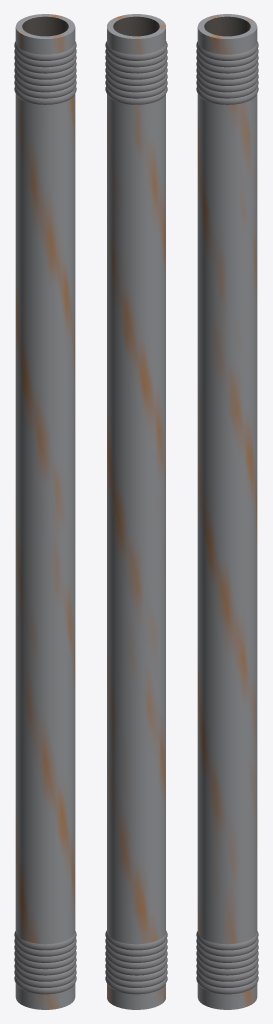
File: iron_pipe.glb
The picture shows the model from 3 angles, left to right: view 1: azimuth 90°, elevation 25°; view 2: azimuth 150°, elevation 25°; view 3: azimuth 270°, elevation 25°; orthographic projection.
Parts seen in each view (by area): view 1: Pipe; view 2: Pipe; view 3: Pipe.
Boxes of the visible parts, x1,y1,x2,y2 form: Pipe: (14,14,76,1009); Pipe: (105,14,167,1009); Pipe: (196,14,258,1009).
Size of the model in its own units: 0.0362 by 0.62 by 0.0362.
